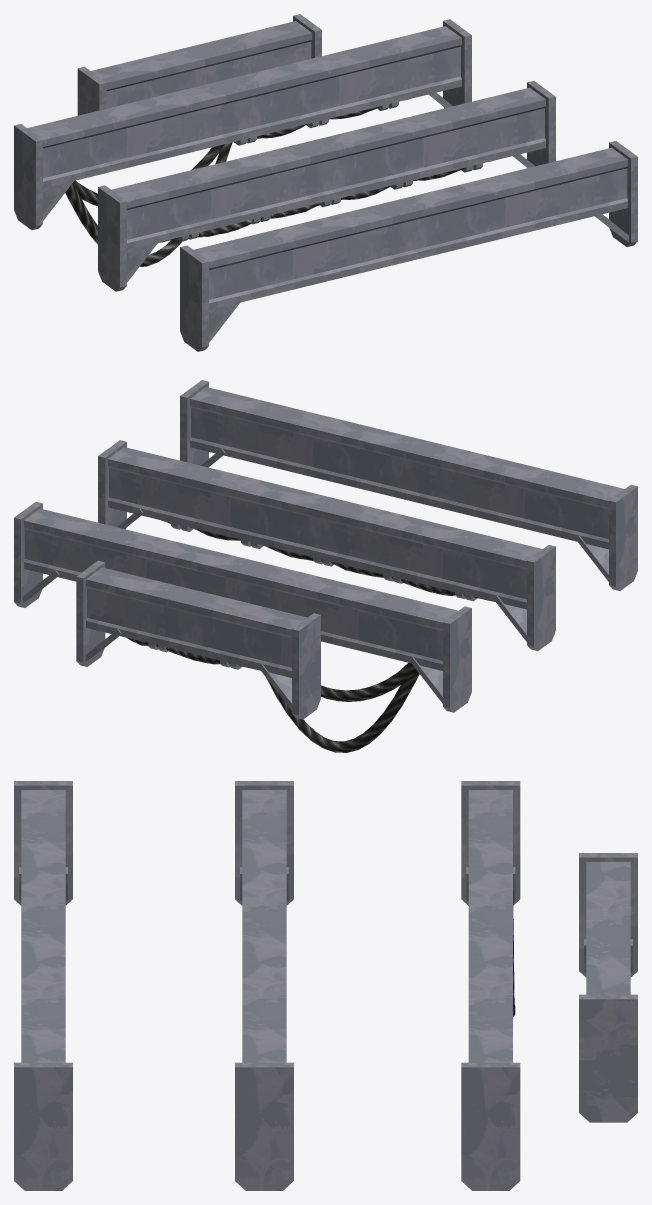
Rendered from ConstructParts.fbx.
3 renders of one model, top to bottom at view 1: azimuth 30°, elevation 25°; view 2: azimuth 150°, elevation 25°; view 3: azimuth 270°, elevation 25°, orthographic. The views are drawn at different scales.
Parts seen in each view (by area): view 1: ConstructWLooseCable, ConstructWCabel, ConstructWithoutCable, ConstructWCabelShort; view 2: ConstructWCabel, ConstructWithoutCable, ConstructWLooseCable, ConstructWCabelShort; view 3: ConstructWLooseCable, ConstructWCabel, ConstructWithoutCable, ConstructWCabelShort.
Boxes of the visible parts, bbox=[...] form: ConstructWLooseCable: bbox=[14, 19, 471, 266]; ConstructWCabel: bbox=[98, 80, 555, 291]; ConstructWithoutCable: bbox=[180, 141, 637, 351]; ConstructWCabelShort: bbox=[77, 14, 321, 115]; ConstructWCabel: bbox=[98, 440, 555, 650]; ConstructWithoutCable: bbox=[180, 380, 637, 590]; ConstructWLooseCable: bbox=[14, 501, 471, 752]; ConstructWCabelShort: bbox=[76, 560, 320, 719]; ConstructWLooseCable: bbox=[461, 781, 520, 1190]; ConstructWCabel: bbox=[235, 781, 293, 1190]; ConstructWithoutCable: bbox=[14, 781, 72, 1190]; ConstructWCabelShort: bbox=[579, 853, 637, 1122].
Bounding box in the file's own units: 1840 × 666 × 1694.
